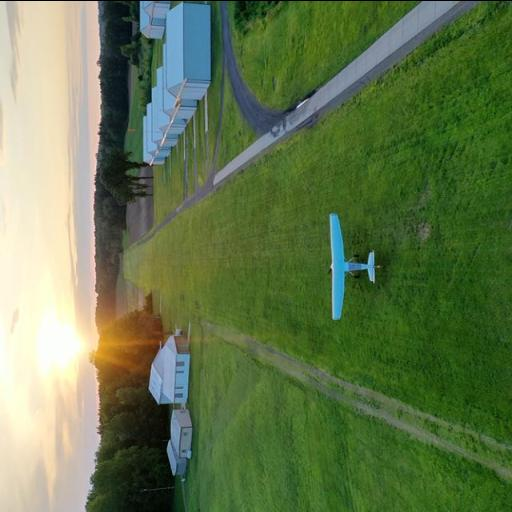uav: (322, 202, 390, 324)
